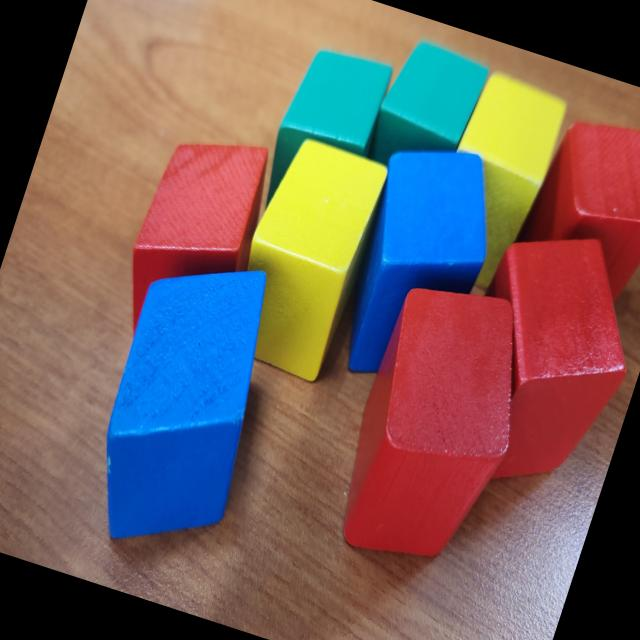blue: (70, 240, 299, 572), (320, 128, 516, 402)
green: (250, 39, 395, 239), (361, 36, 493, 192)
red: (319, 268, 550, 586), (431, 207, 640, 512), (105, 117, 286, 367), (504, 103, 640, 314)
yellow: (214, 130, 394, 386), (419, 69, 576, 298)
